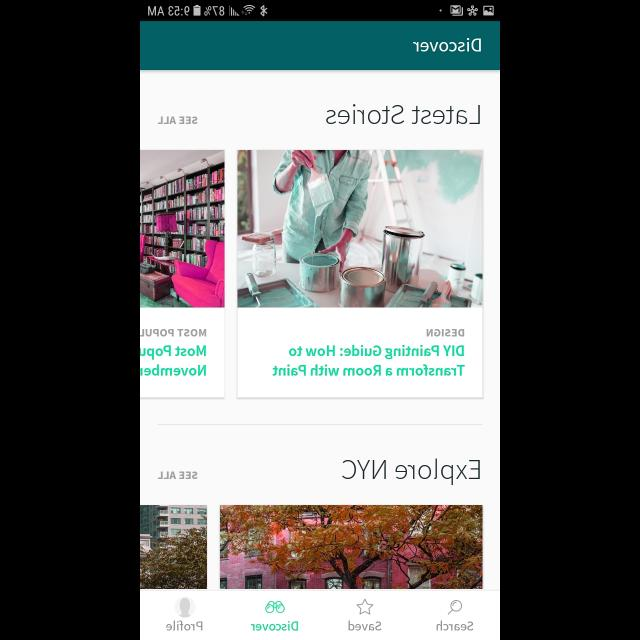icon: (174, 596, 196, 618), (356, 598, 374, 614), (446, 600, 462, 616)
image: (238, 150, 482, 308), (220, 505, 482, 589), (140, 150, 224, 308), (140, 505, 208, 589), (264, 600, 284, 614)
text: (272, 346, 464, 376), (342, 458, 480, 486), (326, 104, 480, 125), (140, 346, 206, 376), (412, 38, 481, 52), (140, 329, 206, 337), (250, 621, 298, 631), (435, 620, 473, 632), (165, 620, 202, 632), (348, 620, 382, 632), (158, 471, 198, 479), (158, 117, 198, 125), (426, 329, 464, 337)
uppertaskbar: (140, 1, 500, 22)
